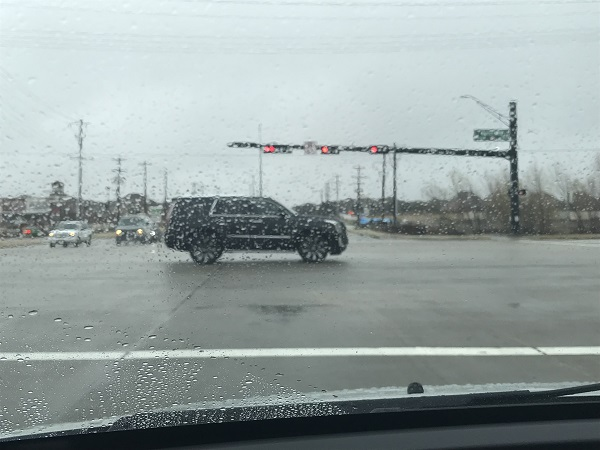car: (49, 220, 94, 246), (115, 215, 155, 244)
truck: (166, 199, 347, 268)
